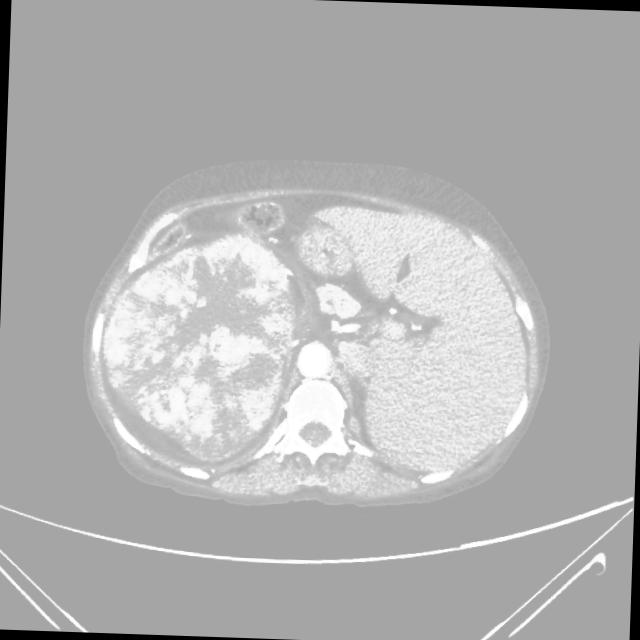TUMOR: (91, 255, 391, 424)
